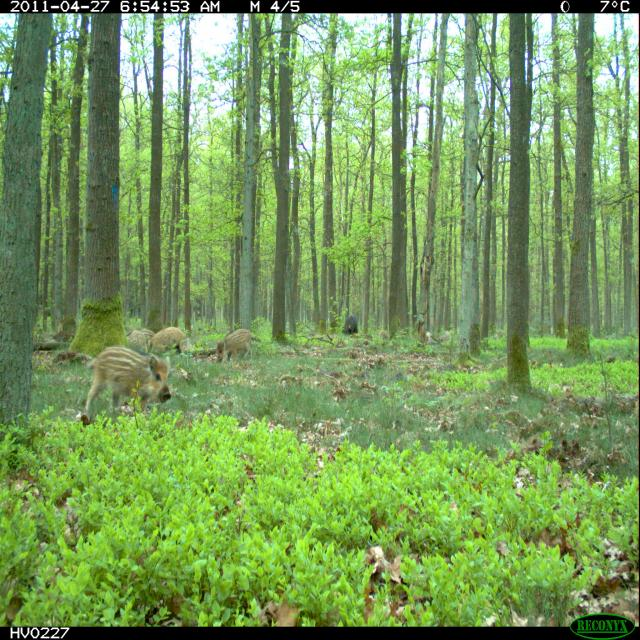boar: (73, 324, 188, 432), (206, 316, 270, 374), (137, 317, 202, 357), (126, 316, 157, 355), (336, 302, 364, 344)
